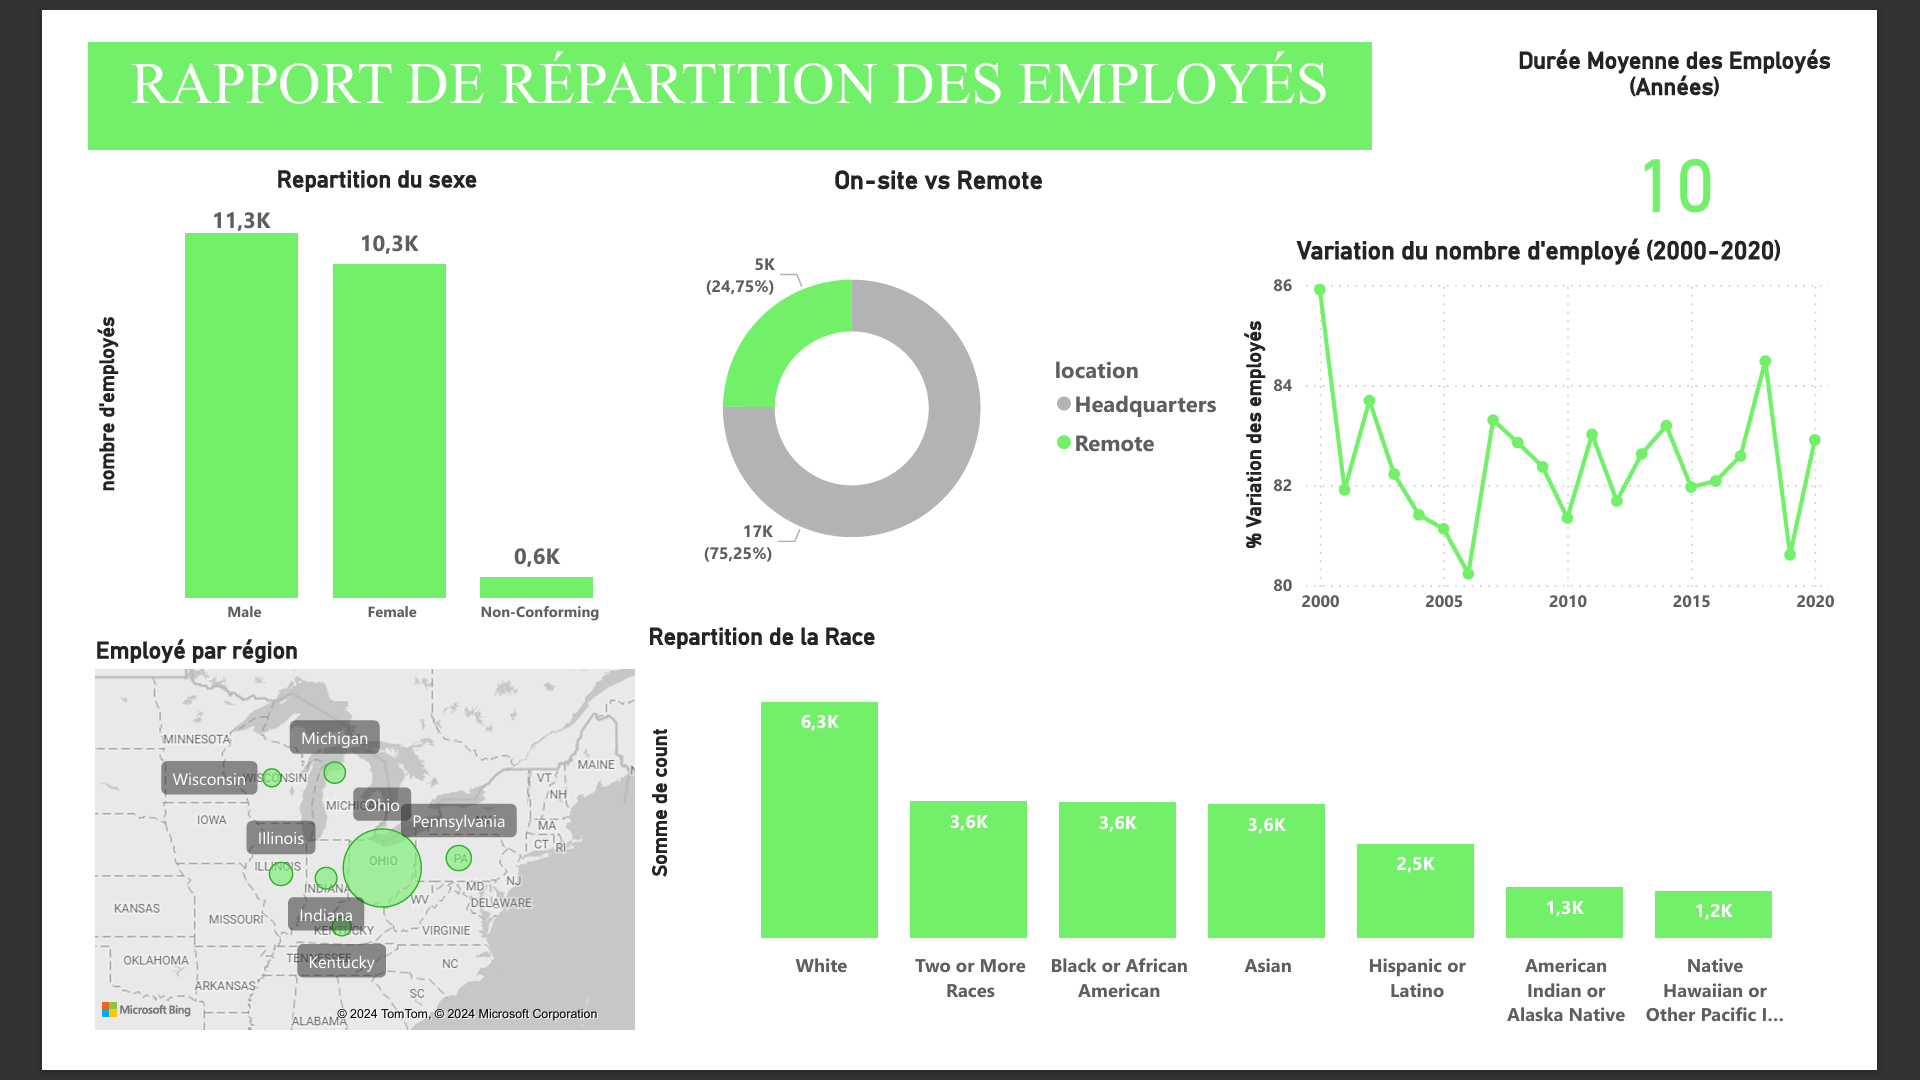

The page's visual inventory and layout, read from the dashboard file:
{"tool":"powerbi","page":{"name":"Page 1","canvas":[1280,720],"ordinal":0},"visuals":[{"type":"textbox","box":[9.6,0,928.6,78.4],"z":0},{"type":"card","title":"Durée Moyenne des Employés (Années)","fields":{"Values":["Sum(avg_length_employment2.avg_length_employment)"]},"box":[1035.2,3.1,244.8,151.2],"z":1000},{"type":"columnChart","title":"Repartition du sexe","fields":{"Y":["Sum(gender.count)"],"Category":["gender.gender"]},"box":[10.2,88.7,416.4,341.3],"z":2000},{"type":"donutChart","title":"On-site vs Remote","fields":{"Y":["Sum(location.count)"],"Category":["location.location"]},"box":[409.6,88.7,430.1,331.1],"z":3000},{"type":"lineChart","title":"Variation du nombre d''employé (2000-2020)","fields":{"Y":["employment_change.diff divisé par hires"],"Category":["employment_change.year"]},"box":[840.3,140.3,438.1,282.2],"z":4000},{"type":"map","title":"Employé par région","fields":{"Size":["Sum(location_state.count)"],"Category":["location_state.location_state"]},"box":[10.2,430.1,399.4,290.1],"z":5000},{"type":"clusteredColumnChart","title":"Repartition de la Race","fields":{"Y":["Sum(race.count)"],"Category":["race.race"]},"box":[409.6,419.8,868.7,300.4],"z":5001}]}

Visuals, with their boxes in screenshot pixels (x1, y1, x2, y2), scaled from the page's 1280x720 canvas onto the 1920x1080 screenshot:
textbox: (14,0,1407,118)
"Durée Moyenne des Employés (Années)" card: (1553,5,1919,231)
"Repartition du sexe" columnChart: (15,133,640,645)
"On-site vs Remote" donutChart: (614,133,1260,630)
"Variation du nombre d''employé (2000-2020)" lineChart: (1260,210,1918,634)
"Employé par région" map: (15,645,614,1079)
"Repartition de la Race" clusteredColumnChart: (614,630,1917,1079)
